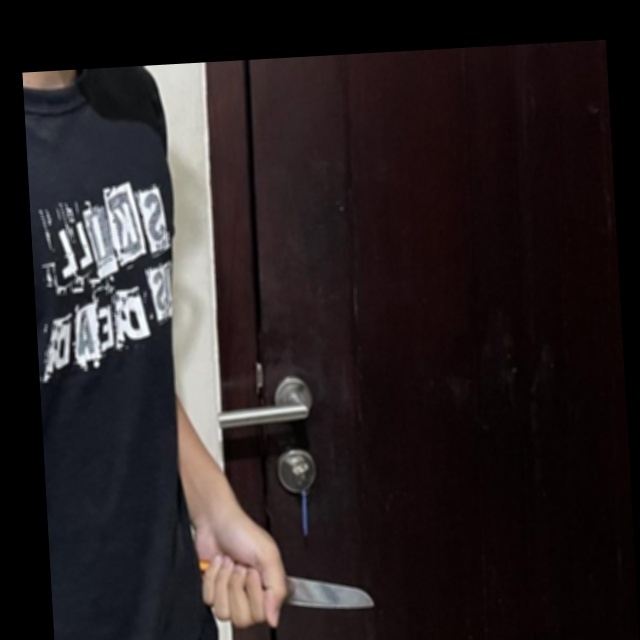Sharp-Object: (272, 570, 377, 615)
